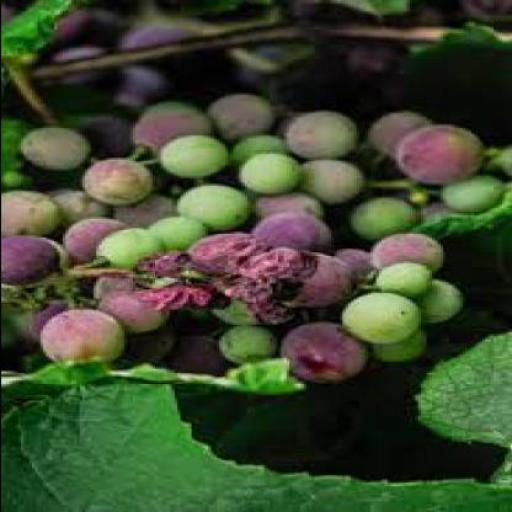biodegradable: (0, 380, 510, 510), (408, 331, 510, 451), (107, 351, 302, 395), (386, 122, 482, 182), (278, 319, 364, 380), (411, 186, 510, 234), (1, 0, 65, 73), (36, 310, 118, 366), (260, 60, 342, 116), (128, 98, 210, 154), (277, 251, 356, 308), (272, 108, 358, 158), (310, 41, 406, 83), (1, 356, 101, 395), (341, 293, 420, 341), (114, 18, 196, 63), (182, 228, 260, 274), (78, 154, 148, 205), (171, 180, 243, 228), (92, 287, 168, 332), (364, 108, 434, 156), (355, 258, 431, 302), (344, 195, 420, 239), (244, 211, 327, 251), (291, 158, 361, 204), (59, 216, 126, 264), (1, 234, 62, 284), (39, 44, 115, 84), (204, 91, 266, 139), (364, 230, 436, 271), (154, 132, 224, 174), (14, 125, 84, 167), (64, 113, 128, 158), (277, 0, 386, 26), (42, 186, 109, 228), (90, 227, 160, 267), (213, 321, 279, 363), (106, 69, 168, 113), (1, 187, 57, 235), (437, 171, 501, 211), (406, 274, 458, 322), (235, 152, 299, 191), (2, 117, 34, 192), (167, 332, 224, 374), (221, 132, 285, 168), (246, 191, 316, 223), (28, 297, 78, 341), (134, 280, 207, 310), (232, 49, 286, 89), (110, 191, 174, 223), (171, 50, 218, 92), (143, 214, 204, 246), (215, 266, 272, 300), (115, 327, 171, 361), (383, 0, 450, 26), (37, 6, 84, 41), (328, 247, 370, 286), (243, 296, 294, 328), (126, 249, 182, 278), (453, 0, 509, 26), (87, 6, 126, 42), (162, 304, 210, 330), (84, 269, 126, 298), (208, 299, 250, 323), (378, 74, 408, 104), (1, 1, 15, 25)
